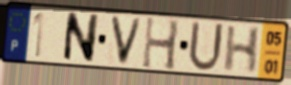1: (31, 12, 46, 59)
H: (140, 15, 182, 73), (221, 24, 263, 75)
N: (61, 11, 101, 65)
U: (186, 19, 226, 74)
V: (108, 14, 145, 68)
